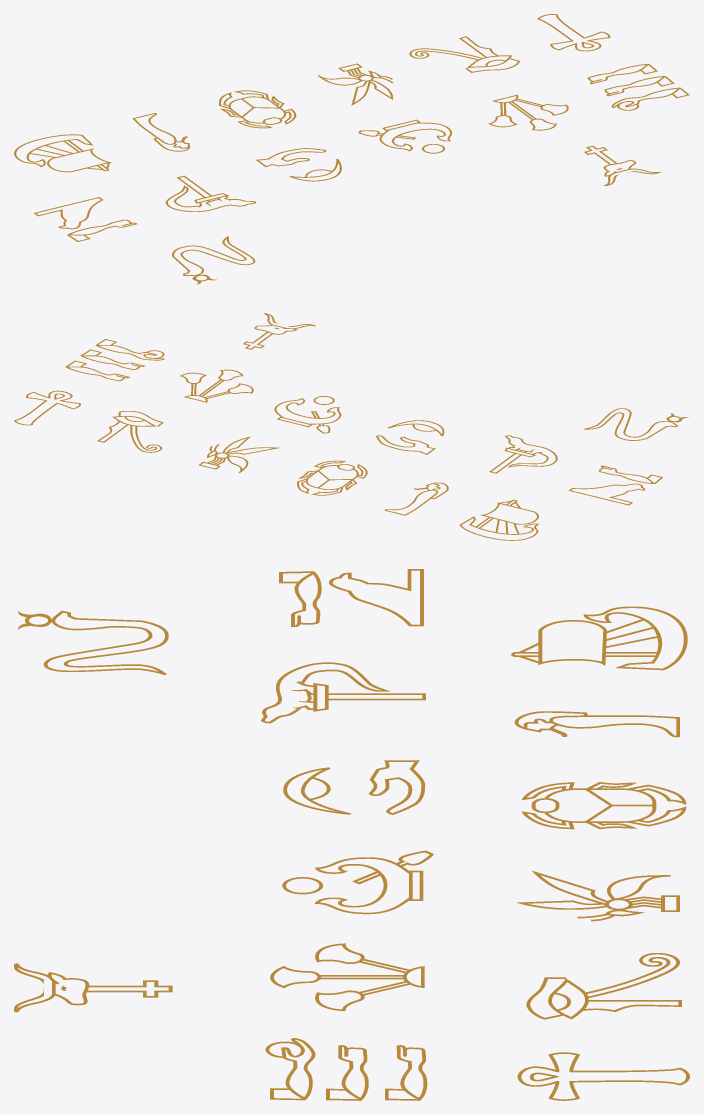
The model's file is ouija_text.glb.
The picture shows the model from 3 angles, top to bottom: view 1: azimuth 30°, elevation 25°; view 2: azimuth 150°, elevation 25°; view 3: azimuth 270°, elevation 25°; orthographic projection. The views are drawn at different scales.
Visible parts, largest first — view 1: Texte_ouija; view 2: Texte_ouija; view 3: Texte_ouija.
Part boxes in pixels (x1,y1,x2,y2): Texte_ouija: (14,14,689,284); Texte_ouija: (14,313,688,540); Texte_ouija: (14,569,689,1100).
Bounding box in the file's own units: 0.8049 × 0 × 0.4324.
Materials: 1 (1 with a texture image).
